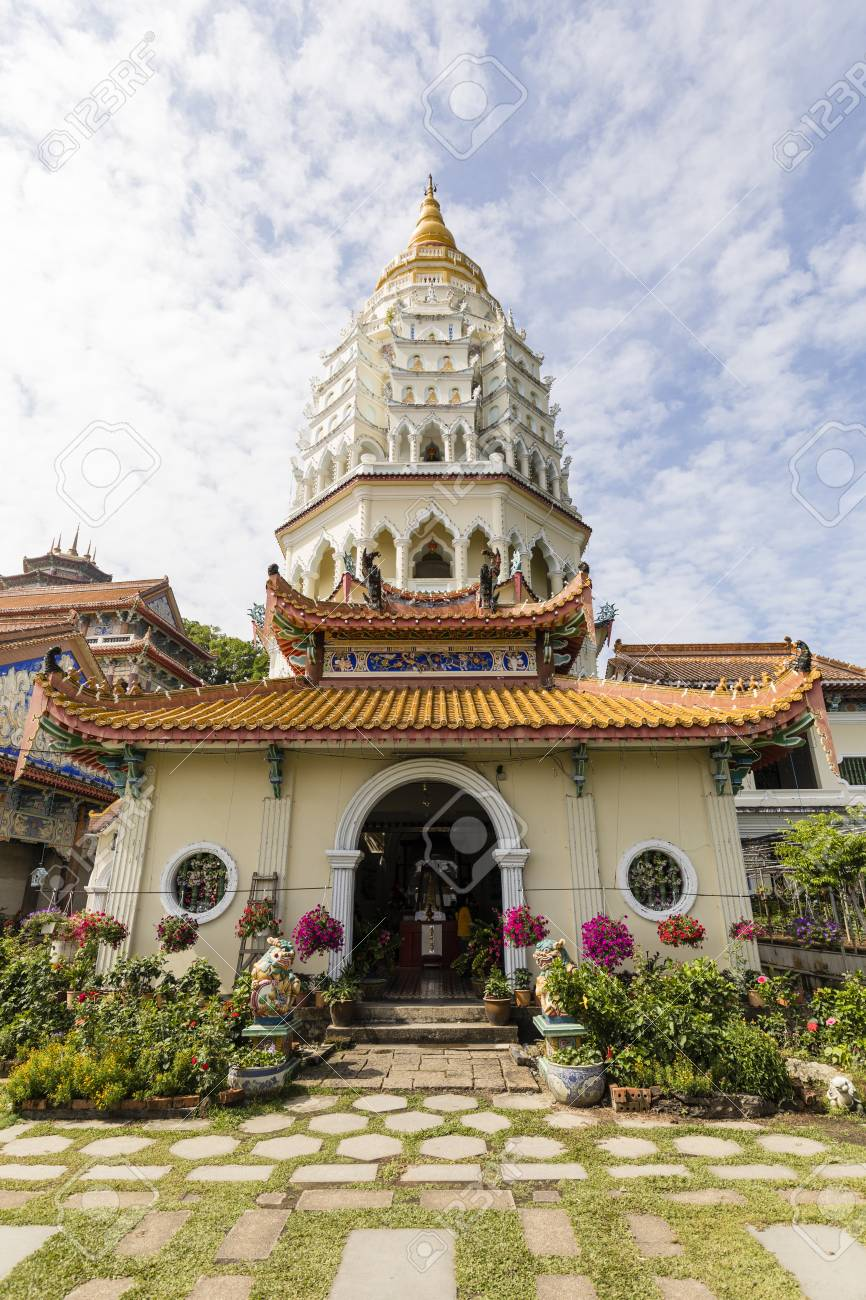Buddhist Temple: (115, 200, 713, 1015)
